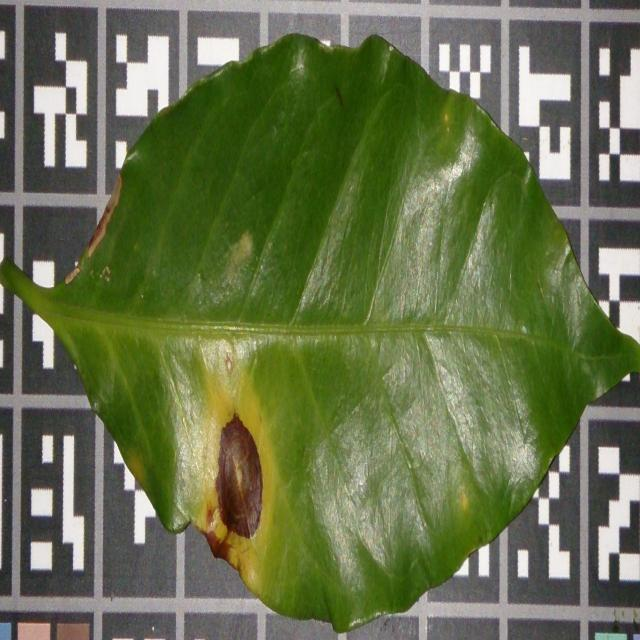Enfermedad-Mancha-de-hierro: (0, 34, 640, 636)
